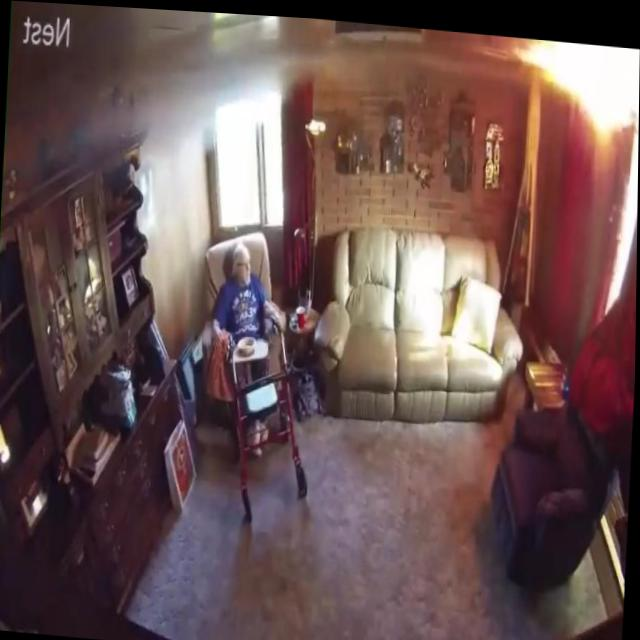fire: (511, 33, 640, 125)
